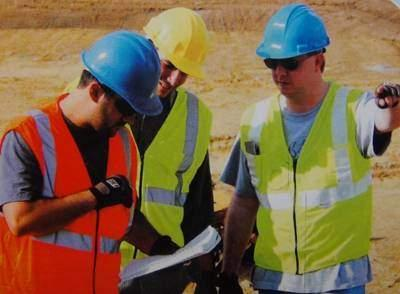helmet: (81, 32, 162, 115), (146, 9, 211, 80), (258, 4, 331, 62)
